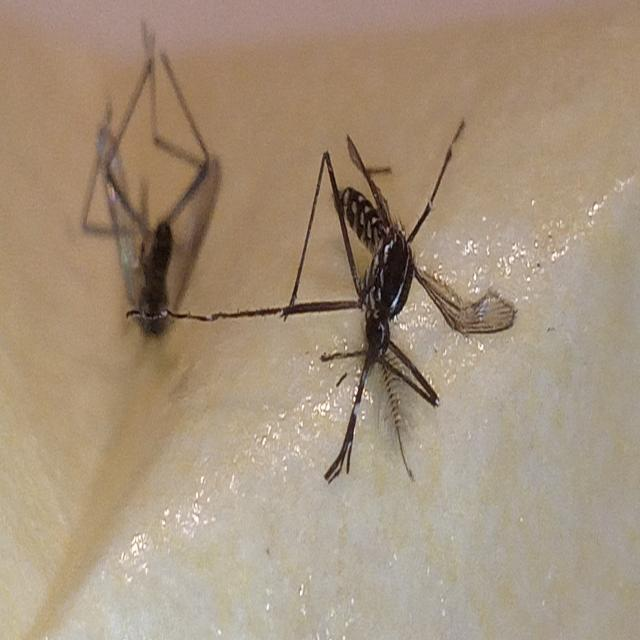albopictus: (266, 88, 508, 509)
